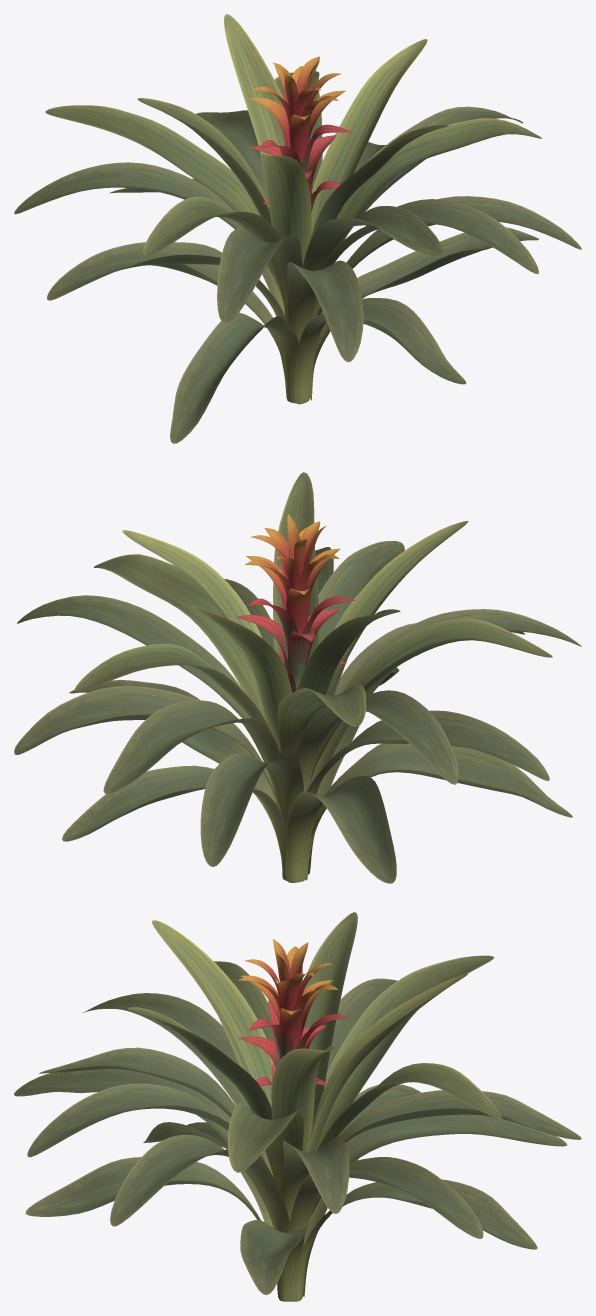
File: bromelia1.fbx
3 views of the same model, one above another, from view 1: azimuth 30°, elevation 25°; view 2: azimuth 150°, elevation 25°; view 3: azimuth 270°, elevation 25° (orthographic). The views are drawn at different scales.
Parts seen in each view (by area): view 1: MH_Bromeliad_01_Shape; view 2: MH_Bromeliad_01_Shape; view 3: MH_Bromeliad_01_Shape.
Part boxes in pixels (x1,y1,x2,y2): MH_Bromeliad_01_Shape: (14, 14, 581, 443); MH_Bromeliad_01_Shape: (14, 472, 581, 883); MH_Bromeliad_01_Shape: (14, 912, 581, 1301).
Size of the model in its own units: 126 by 82.91 by 122.
2 materials, 2 textured.
